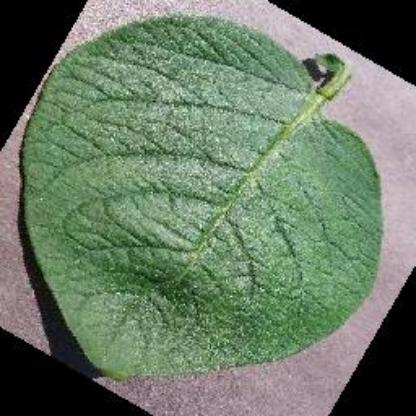Healthy-plant: (18, 9, 392, 385)
